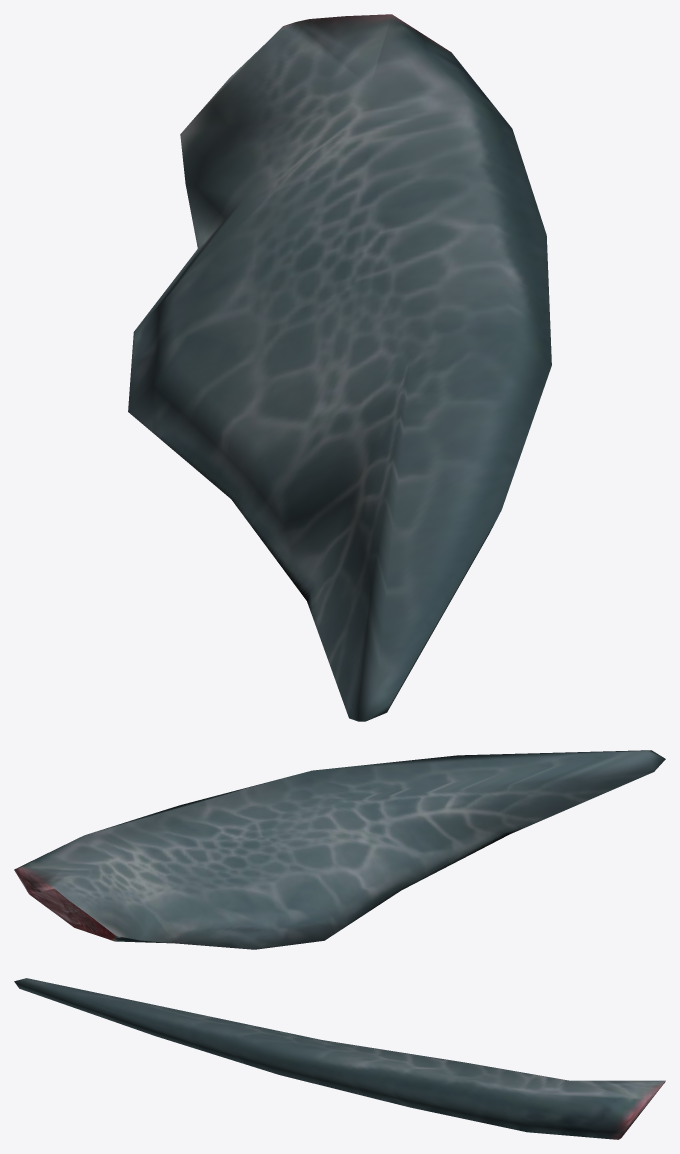
The model's file is piece.glb.
3 renders of one model, top to bottom at view 1: azimuth 30°, elevation 25°; view 2: azimuth 150°, elevation 25°; view 3: azimuth 270°, elevation 25°, orthographic. The views are drawn at different scales.
Parts seen in each view (by area): view 1: Object_11; view 2: Object_11; view 3: Object_11.
Part boxes in pixels (x1,y1,x2,y2): Object_11: [128, 14, 551, 721]; Object_11: [14, 750, 665, 949]; Object_11: [14, 978, 665, 1139].
Bounding box in the file's own units: 12.74 × 3.02 × 20.71.
1 material, 1 textured.
